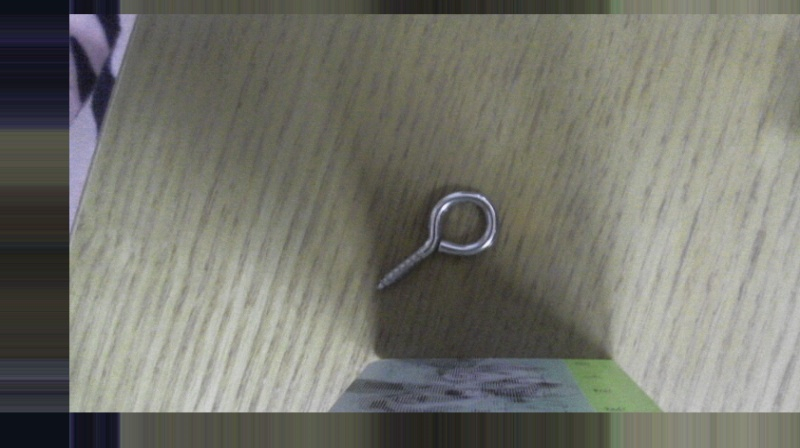O001: (372, 186, 501, 296)
